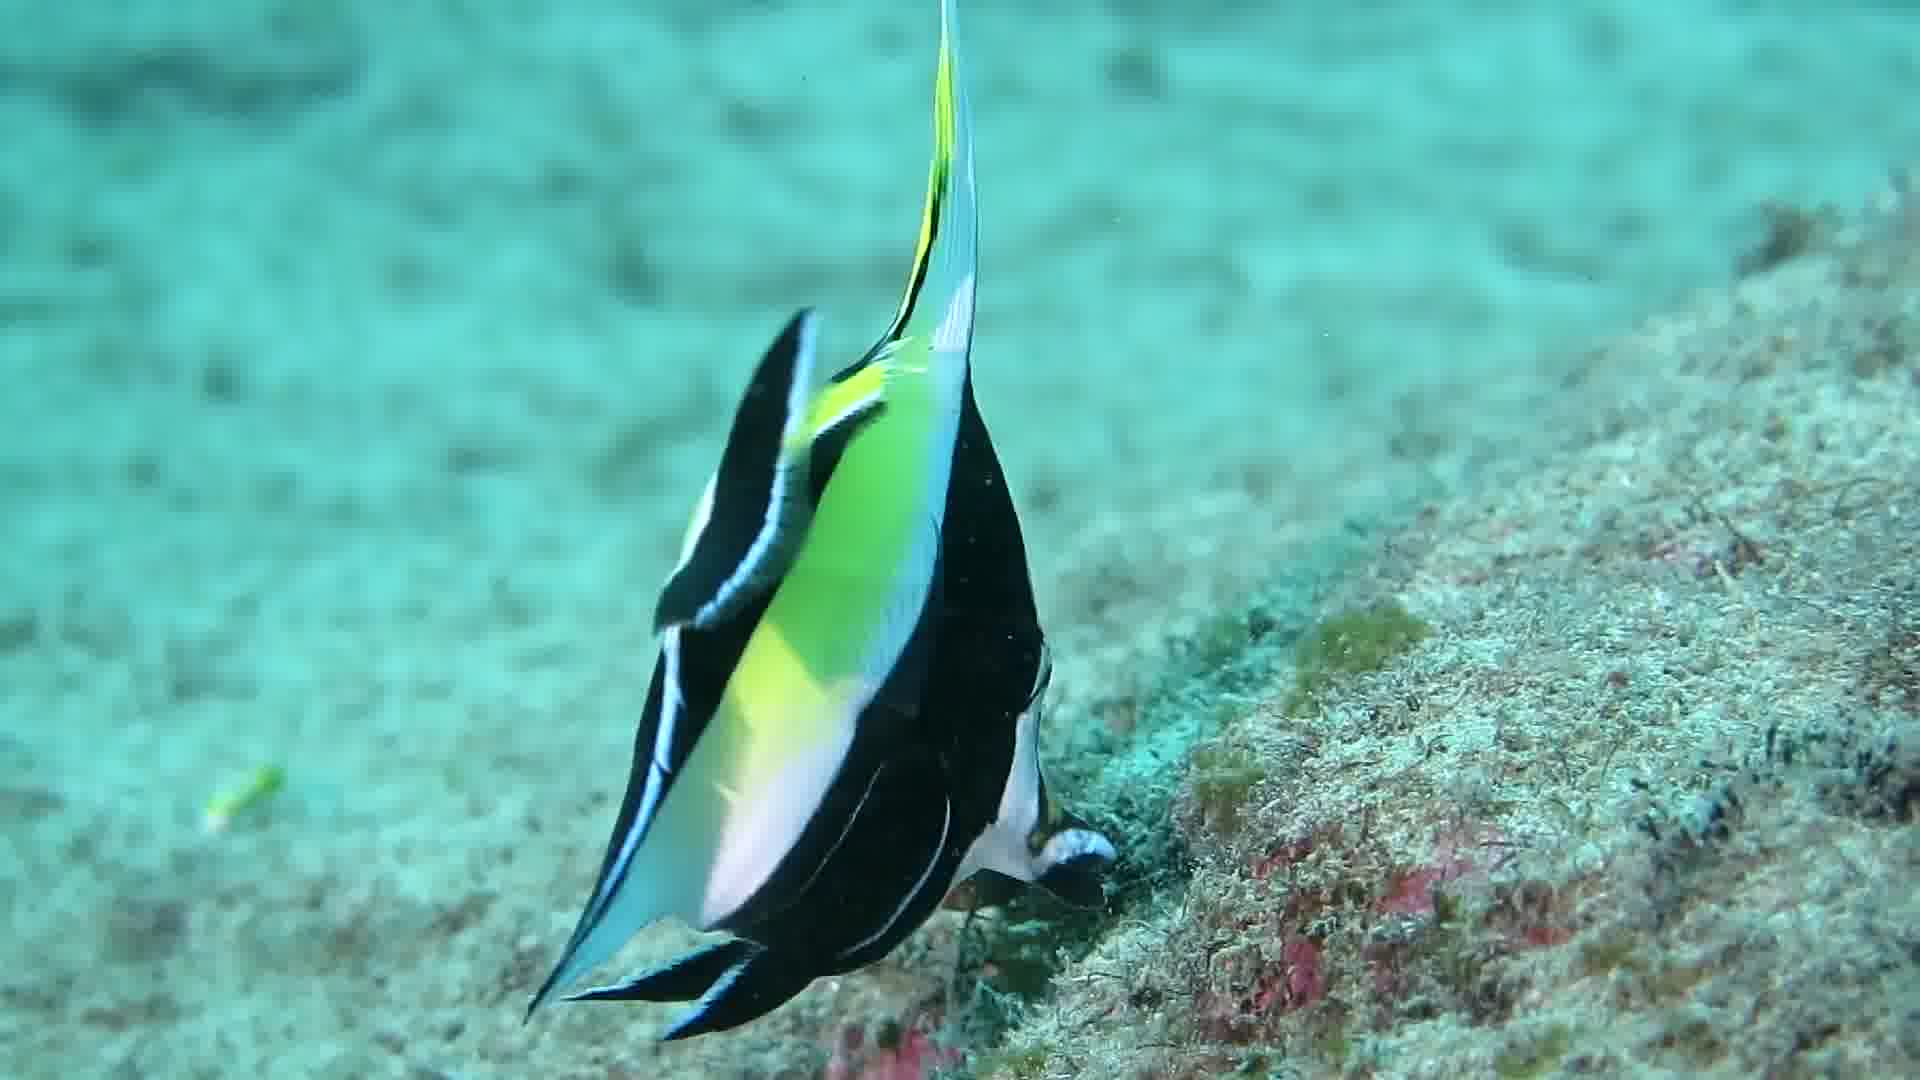Zanclus cornutus: (521, 273, 1201, 1034)
